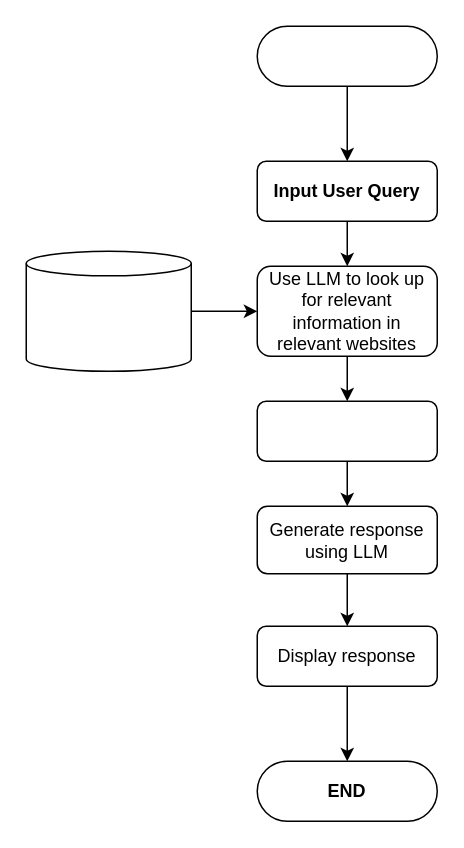
The diagram is 464 pixels wide and 848 high, and some of its shapes have lost their labels. Each missing label, with the centre of its shape:
Process query and scraped data: the point at 346,430
Relevant Skillsfuture Websites: the point at 108,310
Start: the point at 346,55
